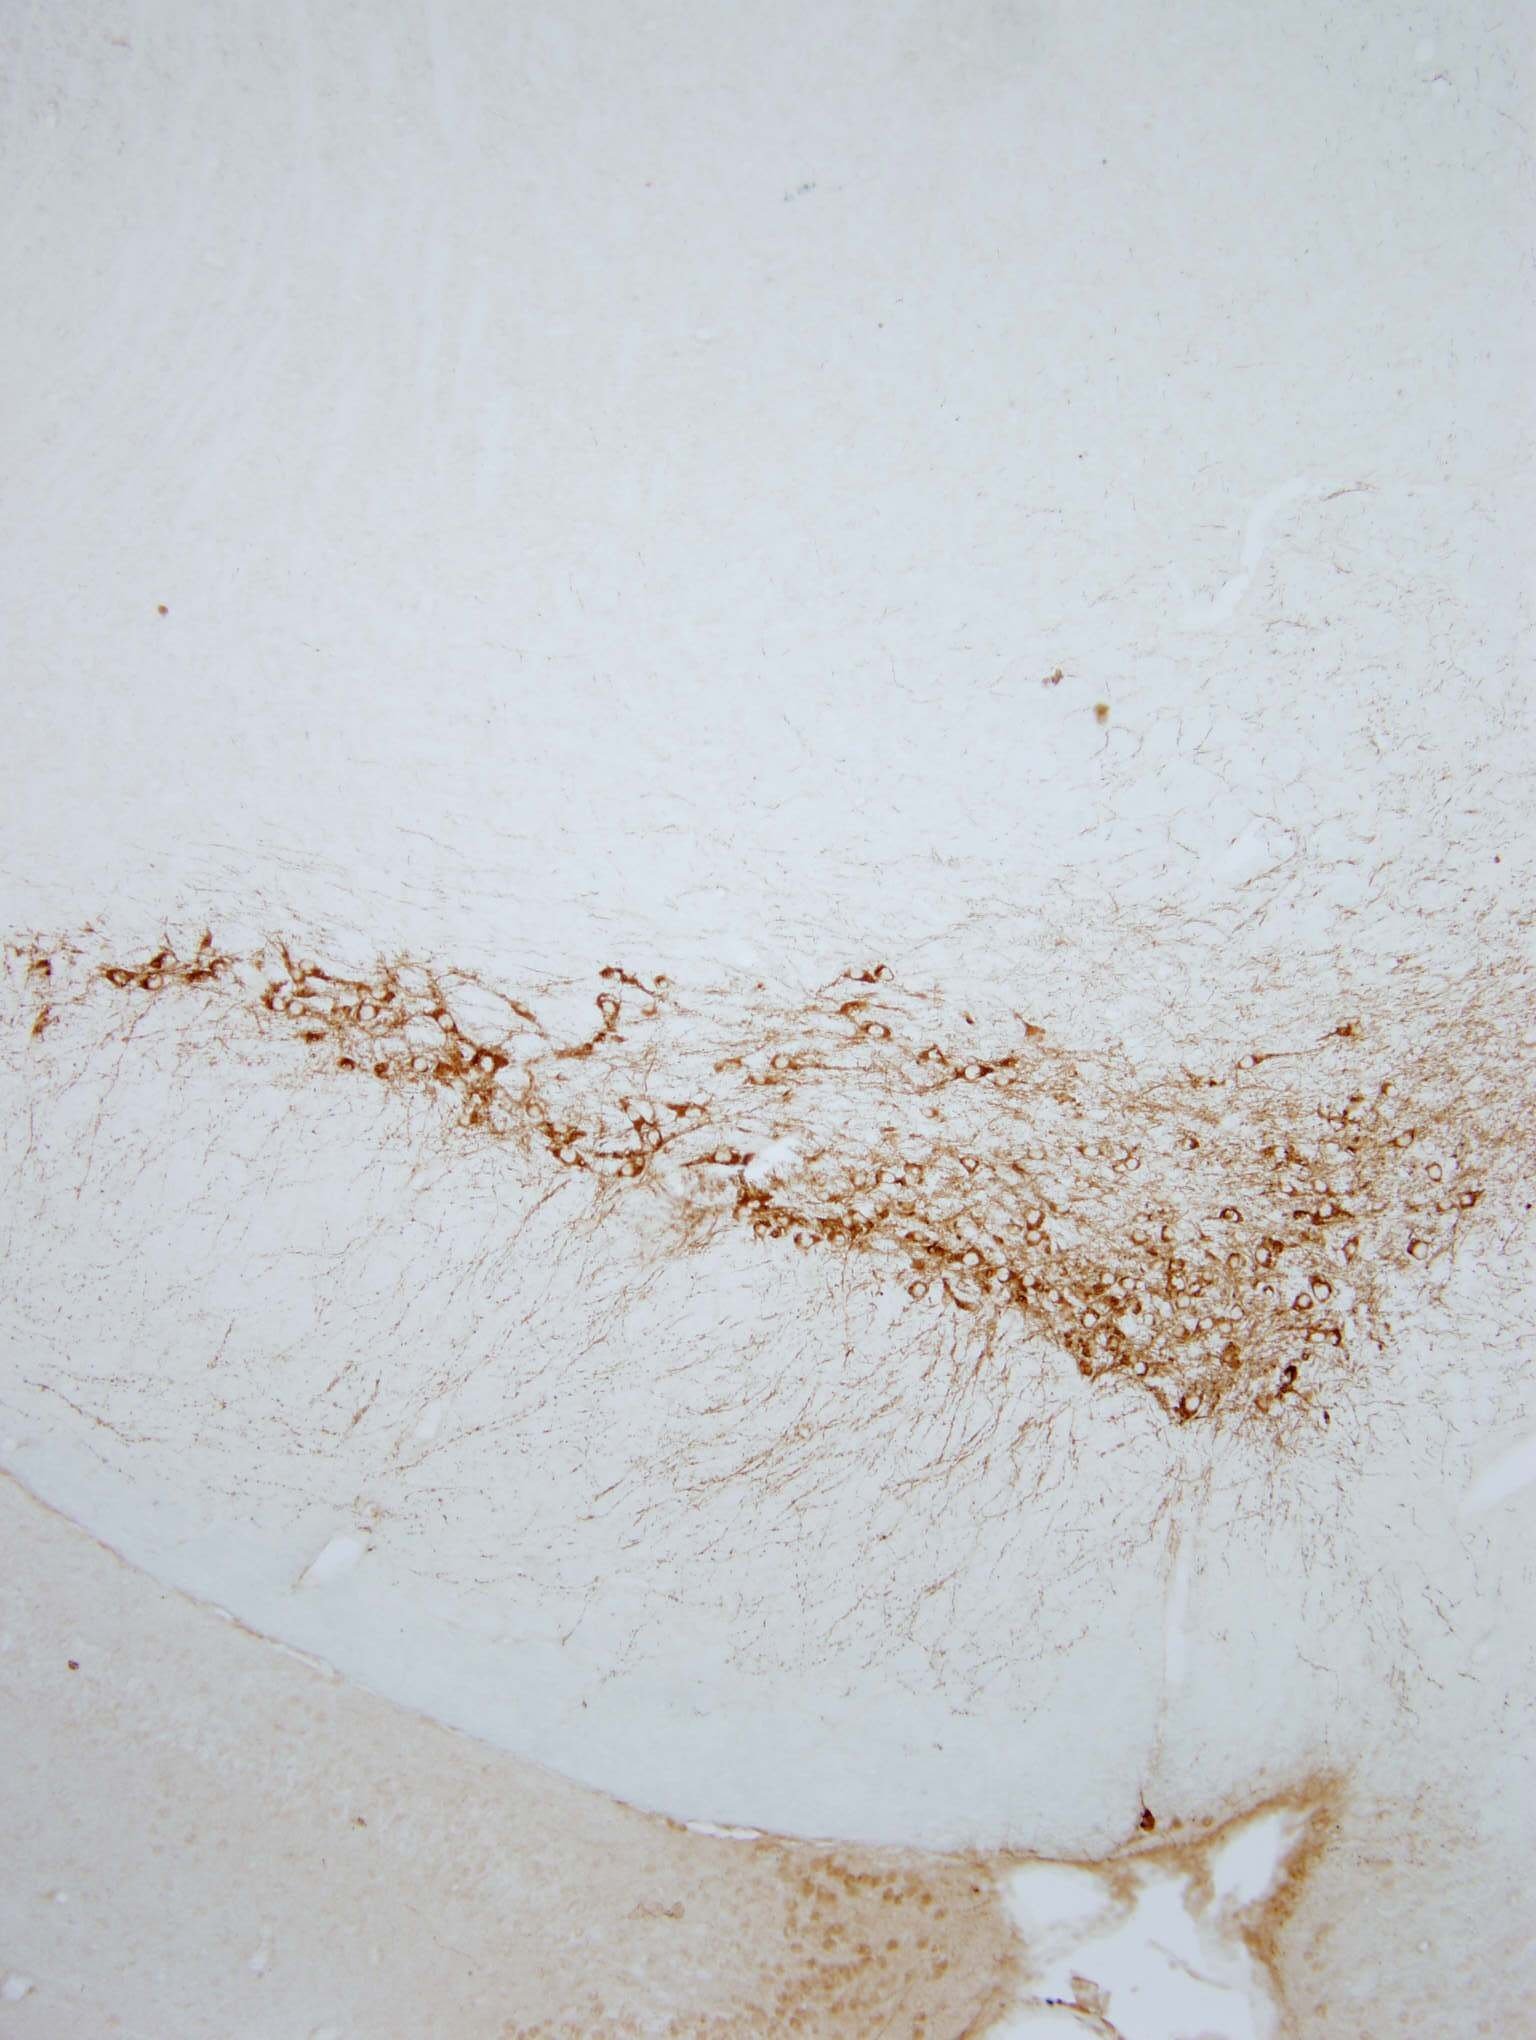neuron: (1016, 1197, 1054, 1234), (1418, 1155, 1455, 1192), (837, 955, 874, 992), (916, 1035, 954, 1072), (991, 1068, 1028, 1105), (1175, 1388, 1210, 1426), (1217, 1198, 1252, 1235), (1268, 1134, 1304, 1171), (1270, 1172, 1305, 1209), (1305, 1168, 1341, 1205), (1309, 1274, 1346, 1309), (1312, 1197, 1347, 1234), (1338, 1014, 1373, 1051), (1426, 1190, 1463, 1226), (429, 1005, 465, 1042), (503, 992, 541, 1027), (520, 1092, 557, 1127), (553, 1139, 589, 1176), (613, 1097, 649, 1134), (641, 1122, 676, 1159), (674, 1090, 712, 1126), (707, 1140, 744, 1176), (766, 1043, 803, 1079), (841, 1161, 878, 1197), (862, 1018, 899, 1053), (871, 958, 908, 993), (900, 1221, 937, 1256), (955, 1147, 991, 1184), (991, 1259, 1028, 1295), (1015, 1263, 1050, 1298), (1018, 1222, 1054, 1258), (1020, 1139, 1055, 1174), (102, 961, 137, 997), (1041, 1280, 1076, 1316), (1073, 1297, 1108, 1332), (1075, 1137, 1110, 1172), (1175, 1127, 1210, 1163), (1233, 1047, 1268, 1082), (1247, 1240, 1283, 1276), (1333, 1232, 1368, 1268), (1389, 1122, 1425, 1158), (139, 968, 174, 1003), (1405, 1232, 1441, 1268), (1454, 1182, 1489, 1218), (152, 943, 187, 979), (352, 998, 387, 1034), (405, 1045, 440, 1080), (473, 1047, 508, 1082), (615, 1153, 650, 1189), (741, 1179, 776, 1214), (792, 1224, 828, 1259), (873, 1161, 908, 1197), (907, 1276, 942, 1311), (957, 1240, 992, 1276), (957, 1053, 992, 1089), (1108, 1156, 1133, 1180), (1120, 1272, 1144, 1297), (1123, 1151, 1147, 1176), (1129, 1227, 1154, 1251), (1131, 1206, 1155, 1230), (1134, 1356, 1158, 1380), (1139, 1309, 1163, 1334), (1158, 1224, 1183, 1248), (1171, 1290, 1196, 1314), (1196, 1311, 1220, 1335), (1217, 1318, 1241, 1342), (1226, 1251, 1250, 1276), (1309, 1327, 1333, 1351), (1326, 1326, 1350, 1350), (1379, 1079, 1404, 1103), (266, 993, 290, 1018), (284, 963, 308, 987), (287, 1000, 311, 1024), (752, 1221, 776, 1245), (816, 1185, 841, 1209), (829, 1227, 854, 1251), (850, 1205, 874, 1229), (920, 1101, 944, 1126), (1099, 1269, 1121, 1293), (1170, 1271, 1192, 1295), (1294, 1292, 1318, 1314), (297, 955, 321, 977), (836, 1206, 858, 1230)
